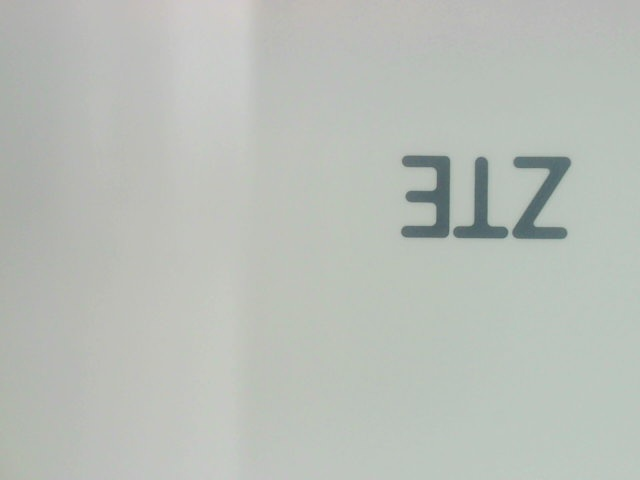AN_ZTE: (398, 140, 573, 240)
